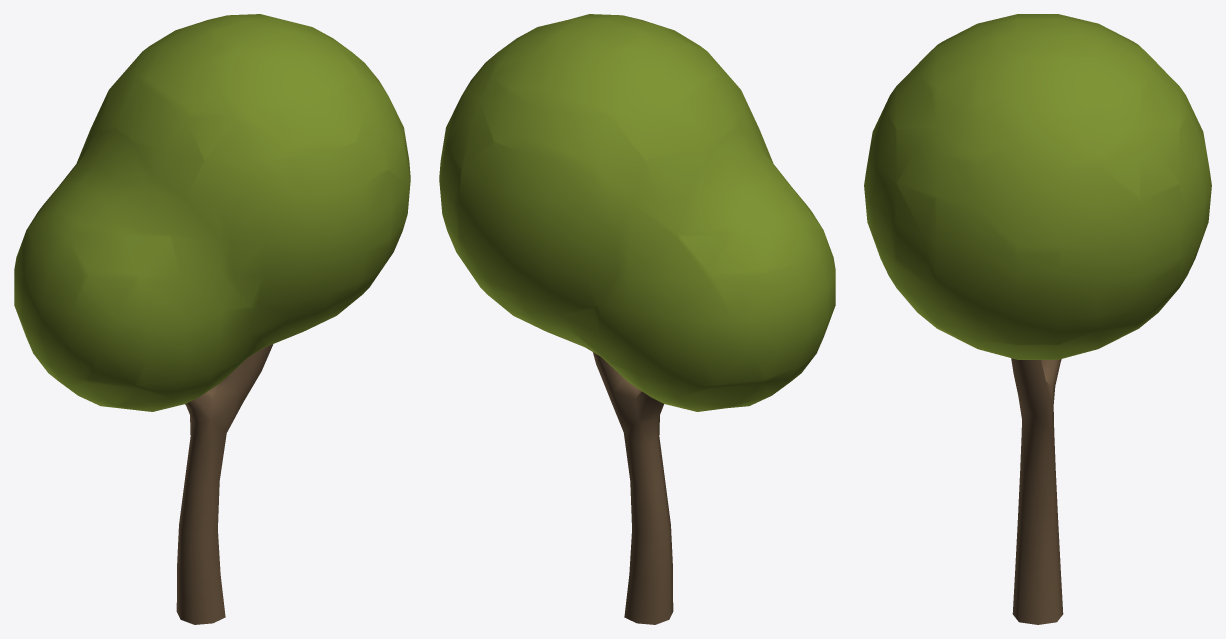
The model's file is tree4.glb.
The picture shows the model from 3 angles, left to right: view 1: azimuth 30°, elevation 25°; view 2: azimuth 150°, elevation 25°; view 3: azimuth 270°, elevation 25°; orthographic projection. The views are drawn at different scales.
Visible parts, largest first — view 1: Tree_4; view 2: Tree_4; view 3: Tree_4.
Part boxes in pixels (left/top/right/bottom): Tree_4: left=14, top=14, right=410, bottom=624; Tree_4: left=439, top=14, right=835, bottom=624; Tree_4: left=864, top=14, right=1211, bottom=624.
Bounding box in the file's own units: 3.3 × 5.08 × 2.63.
